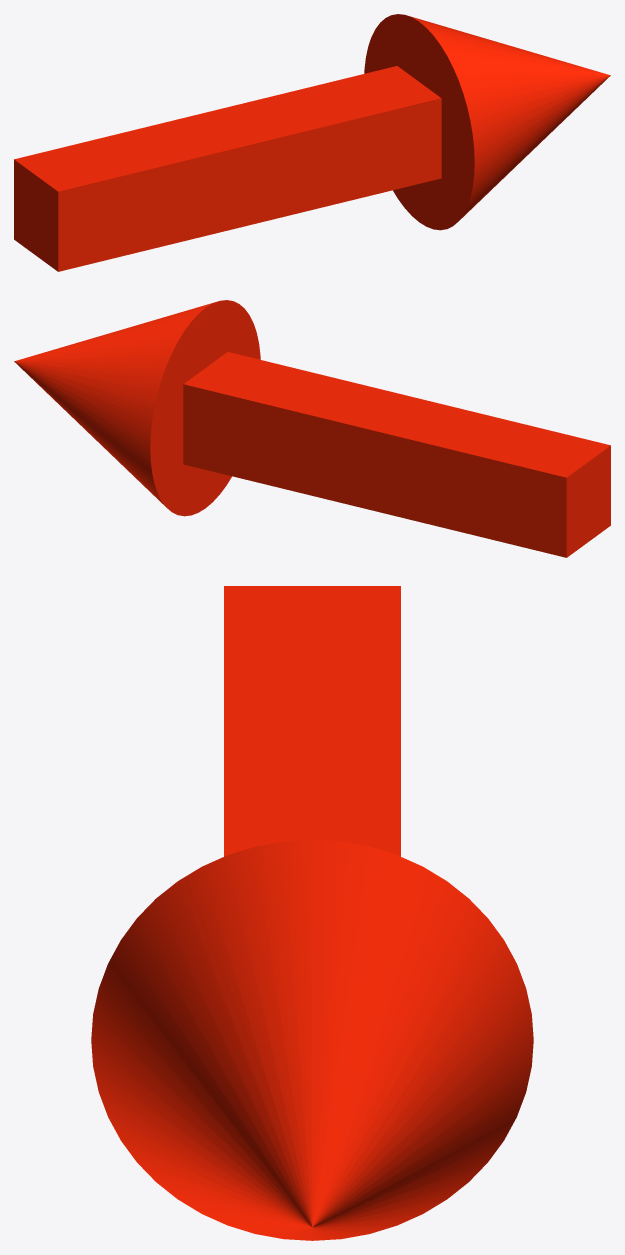
The model's file is arrow_right.dae.
The picture shows the model from 3 angles, top to bottom: view 1: azimuth 30°, elevation 25°; view 2: azimuth 150°, elevation 25°; view 3: azimuth 270°, elevation 25°; orthographic projection. The views are drawn at different scales.
Visible parts, largest first — view 1: body, cone; view 2: body, cone; view 3: cone, body.
Part boxes in pixels (<box>): body: <box>14,66,441,271</box>; cone: <box>364,14,610,230</box>; body: <box>183,352,610,557</box>; cone: <box>14,300,260,516</box>; cone: <box>91,840,533,1240</box>; body: <box>224,586,400,856</box>.
Bounding box in the file's own units: 1.5 × 0.5 × 0.5.
